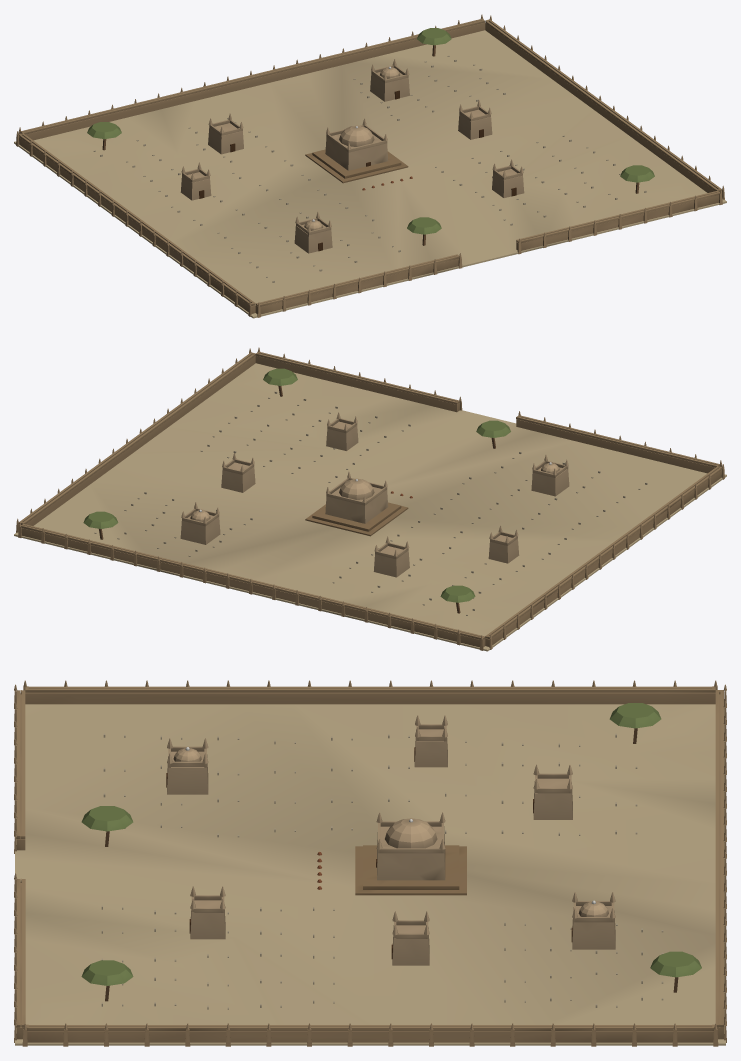
The model's file is saints-cemetery.glb.
3 views of the same model, one above another, from view 1: azimuth 30°, elevation 25°; view 2: azimuth 150°, elevation 25°; view 3: azimuth 270°, elevation 25° (orthographic). The views are drawn at different scales.
Parts seen in each view (by area): view 1: p0_ground, p1_walls, p2_tombs; view 2: p0_ground, p1_walls, p2_tombs; view 3: p0_ground, p1_walls, p2_tombs.
Boxes of the visible parts, <box> form: p0_ground: <box>14,30,726,318</box>; p1_walls: <box>16,14,724,317</box>; p2_tombs: <box>87,28,654,253</box>; p0_ground: <box>14,363,726,651</box>; p1_walls: <box>16,347,724,650</box>; p2_tombs: <box>83,368,569,613</box>; p0_ground: <box>15,704,725,1045</box>; p1_walls: <box>14,680,726,1046</box>; p2_tombs: <box>81,703,701,1001</box>.
Size of the model in its own units: 80.26 by 6.01 by 70.21.
